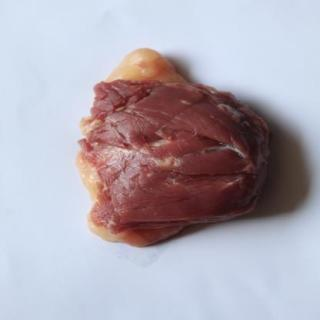Daging Sapi: (81, 48, 270, 249)
